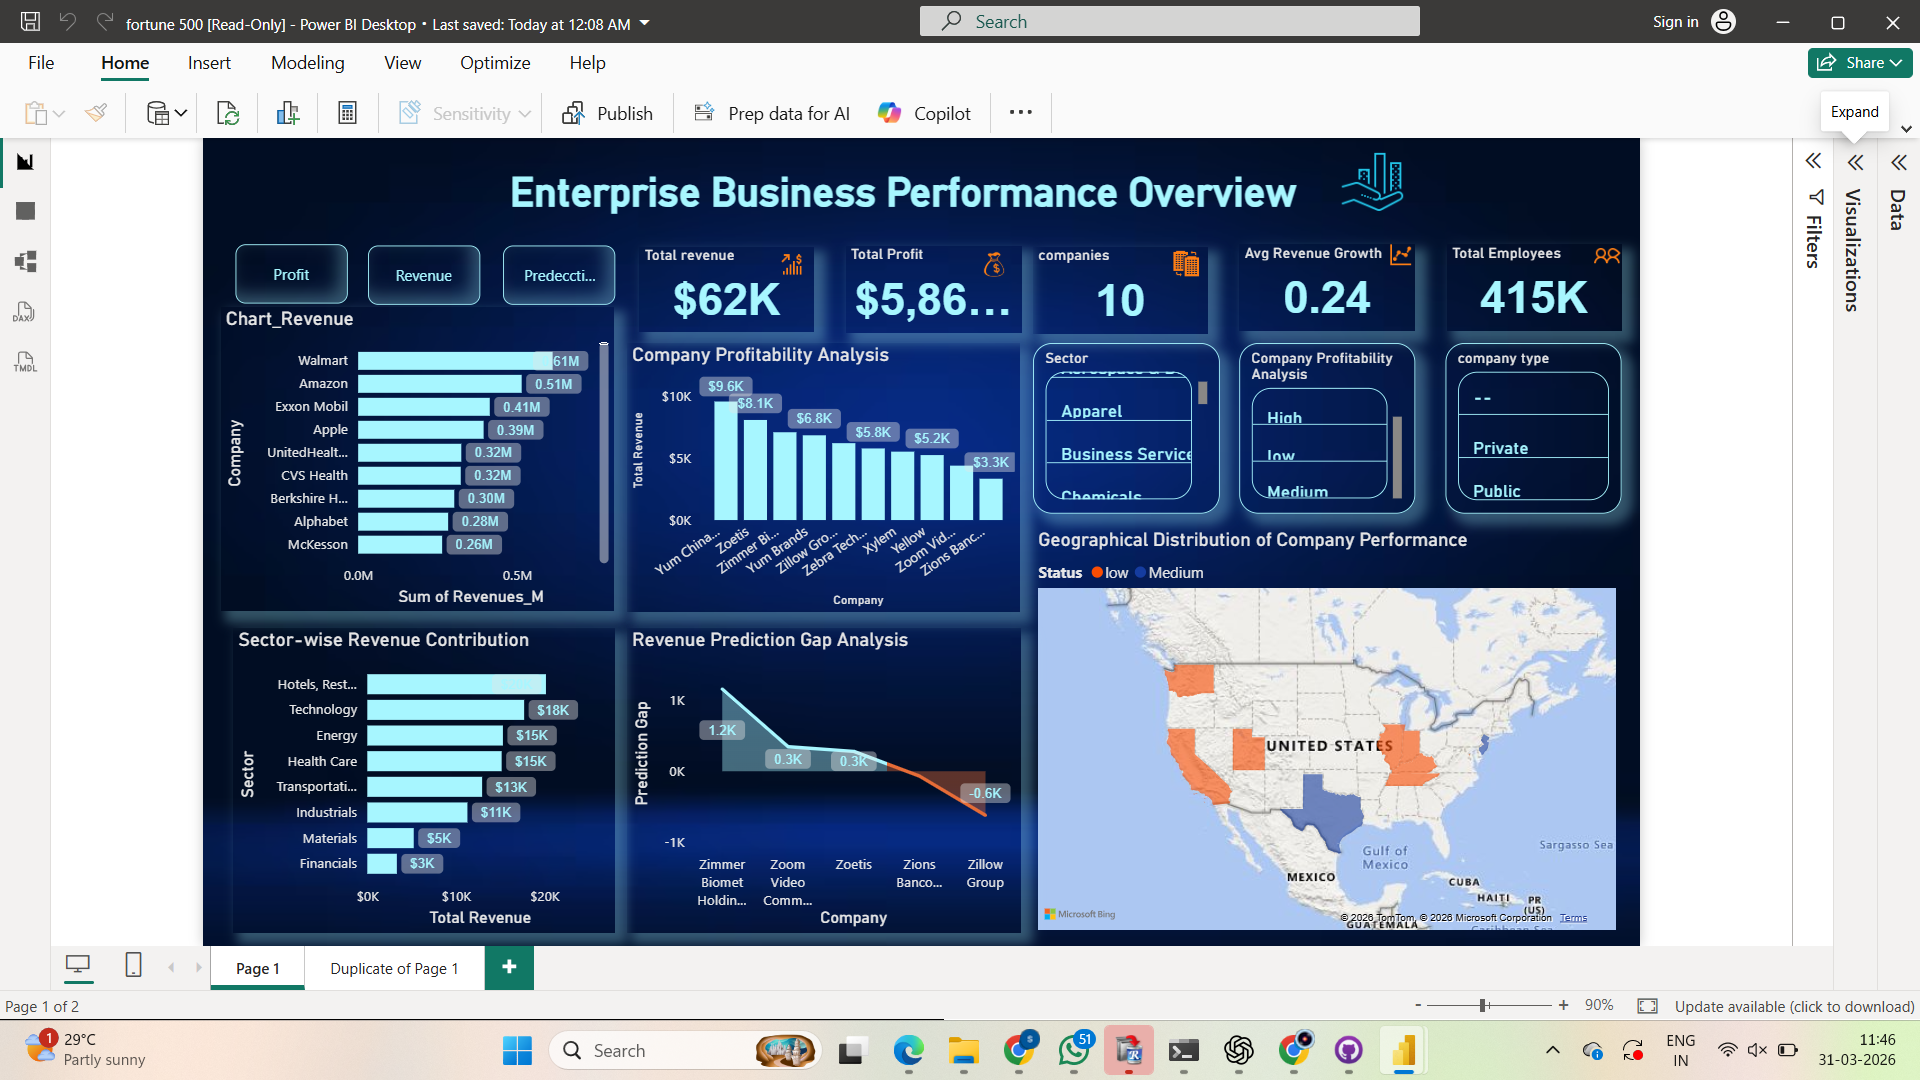

What the dashboard file says about the page in this screenshot:
{"tool":"powerbi","page":{"name":"Page 1","canvas":[1280,720],"ordinal":0},"visuals":[{"type":"barChart","title":"Chart_Revenue","fields":{"Category":["final_predictions (4).Company"],"Y":["Sum(final_predictions (4).Revenues_M)"]},"box":[15.9,150.8,350.8,271.4],"z":2000},{"type":"actionButton","title":"profit buttin","box":[28.6,94.3,100,52.9],"z":3000},{"type":"actionButton","title":"revinue button","box":[147.1,95.7,100,52.9],"z":4000},{"type":"actionButton","title":"Predictionbutton","box":[267.1,95.7,100,52.9],"z":5000},{"type":"clusteredColumnChart","title":"Company Profitability Analysis","fields":{"Category":["final_predictions (4).Company"],"Y":["final_predictions (4).Total Revenue"]},"box":[377.8,182.5,350.8,239.7],"z":6000},{"type":"clusteredBarChart","title":"Sector-wise Revenue Contribution","fields":{"Category":["final_predictions (4).Sector"],"Y":["final_predictions (4).Total Revenue"]},"box":[26.5,436.7,340.2,271.4],"z":7000},{"type":"advancedSlicerVisual","title":"Company Profitability Analysis","fields":{"Values":["final_predictions (4).Status"]},"box":[922.9,182.2,156.8,152],"z":8000},{"type":"card","title":"Total revenue","fields":{"Values":["final_predictions (4).Total Revenue"]},"box":[388.5,96.5,155.6,76],"z":9000},{"type":"card","title":"Total Profit","fields":{"Values":["final_predictions (4).Total Profit"]},"box":[571.9,95.3,156.8,77.2],"z":10000},{"type":"card","title":"companies","fields":{"Values":["final_predictions (4).Total Companies"]},"box":[739.5,96.5,155.6,77.2],"z":11000},{"type":"card","title":"Avg Revenue Growth","fields":{"Values":["final_predictions (4).Avg Revenue Growth"]},"box":[922.9,94.1,156.8,77.2],"z":12000},{"type":"card","title":"Total Employees","fields":{"Values":["final_predictions (4).Total Employees"]},"box":[1107.5,94.1,155.6,77.2],"z":13000},{"type":"filledMap","title":"Geographical Distribution of Company Performance","fields":{"Category":["final_predictions (4).HeadquartersState"],"Series":["final_predictions (4).Status"]},"box":[739.7,347.6,523.8,363.5],"z":14000},{"type":"advancedSlicerVisual","title":"Sector","fields":{"Values":["final_predictions (4).Sector"]},"box":[739.7,182.5,166.7,152.4],"z":15000},{"type":"advancedSlicerVisual","title":"company type","fields":{"Values":["final_predictions (4).CompanyType"]},"box":[1106.3,182.5,157.1,152.4],"z":16000},{"type":"textbox","title":"Enterprise Business Performance Overview","box":[0,26.5,1247.5,50.7],"z":17000},{"type":"stackedAreaChart","title":"Revenue Prediction Gap Analysis","fields":{"Category":["final_predictions (4).Company"],"Y":["final_predictions (4).Prediction Gap"]},"box":[377.6,436.7,351.1,271.4],"z":18000},{"type":"image","box":[1001.3,1.2,78.4,76],"z":19000},{"type":"image","box":[503.1,95.3,41,33.8],"z":20000},{"type":"image","box":[681.6,95.3,47.1,33.8],"z":21000},{"type":"image","box":[856.6,94.1,38.6,35],"z":22000},{"type":"image","box":[1043.6,86.9,47.1,35],"z":23000},{"type":"image","box":[1233,88.1,33.8,33.8],"z":24000}]}

Visuals, with their boxes on the page's 1280x720 design canvas (x1, y1, x2, y2). These are canvas units, not pixel positions in the 1920x1080 screenshot, which may show the page scaled, cropped or inside an application window:
"Chart_Revenue" barChart: (left=16, top=151, right=367, bottom=422)
"profit buttin" actionButton: (left=29, top=94, right=129, bottom=147)
"revinue button" actionButton: (left=147, top=96, right=247, bottom=149)
"Predictionbutton" actionButton: (left=267, top=96, right=367, bottom=149)
"Company Profitability Analysis" clusteredColumnChart: (left=378, top=182, right=729, bottom=422)
"Sector-wise Revenue Contribution" clusteredBarChart: (left=26, top=437, right=367, bottom=708)
"Company Profitability Analysis" advancedSlicerVisual: (left=923, top=182, right=1080, bottom=334)
"Total revenue" card: (left=388, top=96, right=544, bottom=172)
"Total Profit" card: (left=572, top=95, right=729, bottom=172)
"companies" card: (left=740, top=96, right=895, bottom=174)
"Avg Revenue Growth" card: (left=923, top=94, right=1080, bottom=171)
"Total Employees" card: (left=1108, top=94, right=1263, bottom=171)
"Geographical Distribution of Company Performance" filledMap: (left=740, top=348, right=1264, bottom=711)
"Sector" advancedSlicerVisual: (left=740, top=182, right=906, bottom=335)
"company type" advancedSlicerVisual: (left=1106, top=182, right=1263, bottom=335)
"Enterprise Business Performance Overview" textbox: (left=0, top=26, right=1248, bottom=77)
"Revenue Prediction Gap Analysis" stackedAreaChart: (left=378, top=437, right=729, bottom=708)
image: (left=1001, top=1, right=1080, bottom=77)
image: (left=503, top=95, right=544, bottom=129)
image: (left=682, top=95, right=729, bottom=129)
image: (left=857, top=94, right=895, bottom=129)
image: (left=1044, top=87, right=1091, bottom=122)
image: (left=1233, top=88, right=1267, bottom=122)
